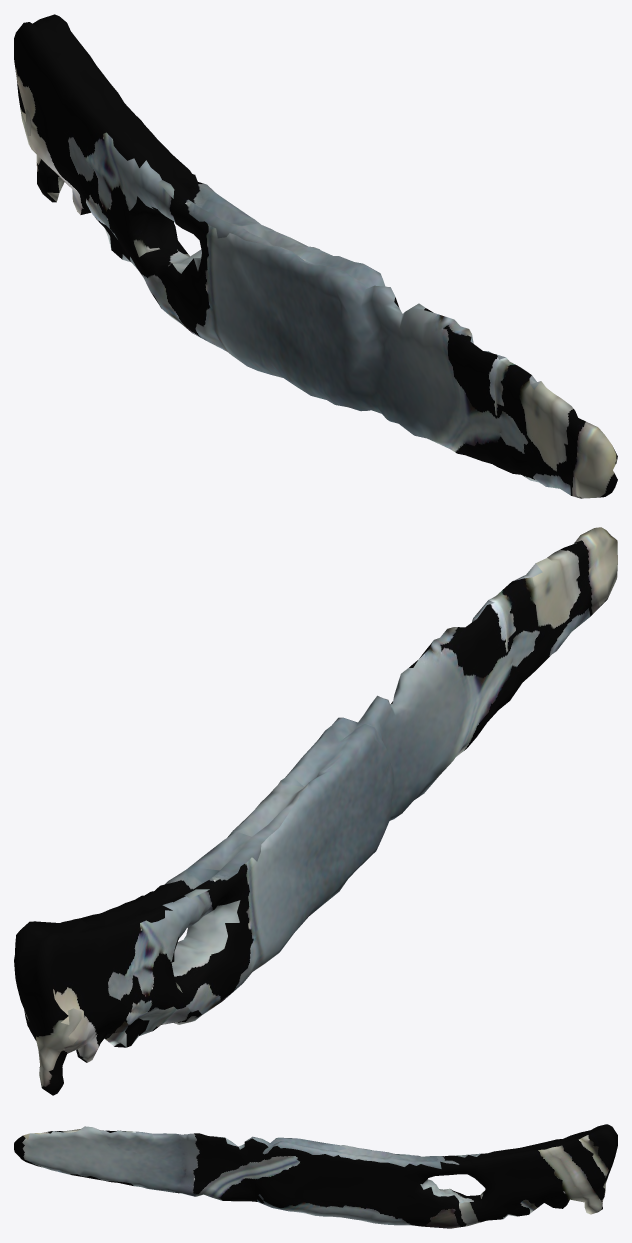
File: scan_align.obj
3 views of the same model, one above another, from view 1: azimuth 30°, elevation 25°; view 2: azimuth 150°, elevation 25°; view 3: azimuth 270°, elevation 25° (orthographic). The views are drawn at different scales.
Bounding box in the file's own units: 0.00658 × 0.0251 × 0.1346.
